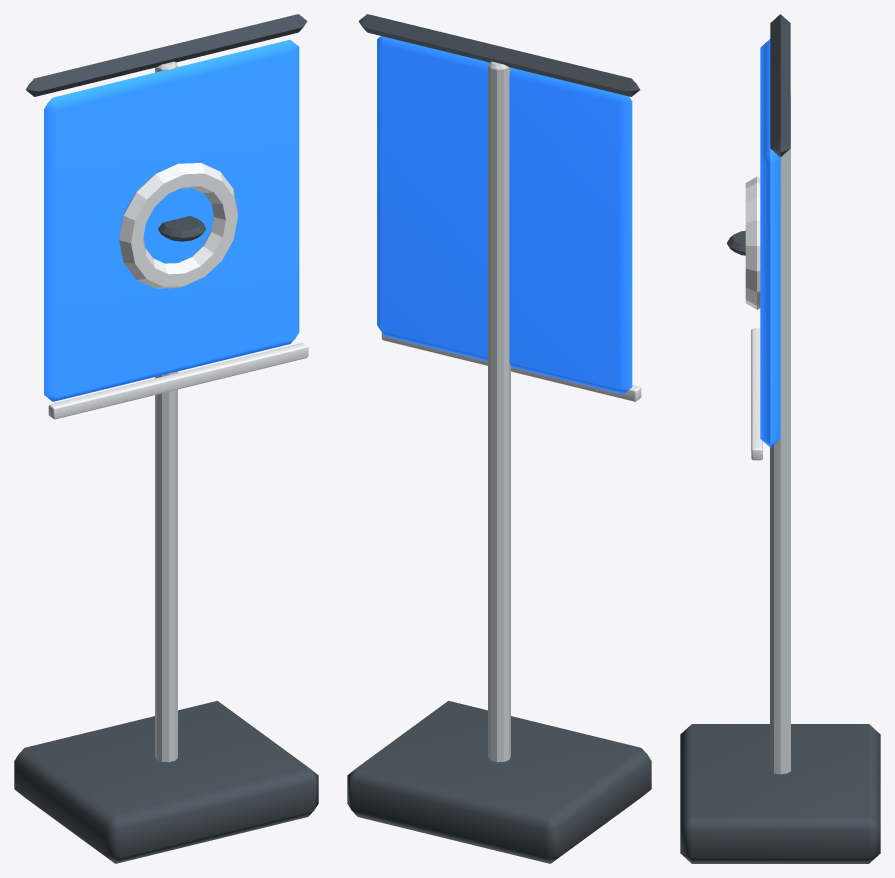
The model's file is Banner_Blue_Eye.fbx.
The picture shows the model from 3 angles, left to right: view 1: azimuth 30°, elevation 25°; view 2: azimuth 150°, elevation 25°; view 3: azimuth 270°, elevation 25°; orthographic projection. The views are drawn at different scales.
Visible parts, largest first — view 1: Banner fabric, Weighted base, Support pole, Eye outline, Crossbar, Banner hem, Eye pupil; view 2: Banner fabric, Weighted base, Support pole, Crossbar, Banner hem; view 3: Weighted base, Support pole, Banner fabric, Crossbar, Eye outline, Banner hem.
Part boxes in pixels (left/top/right/bottom): Banner fabric: left=44, top=39, right=299, bottom=401; Weighted base: left=14, top=701, right=318, bottom=863; Support pole: left=155, top=61, right=177, bottom=762; Eye outline: left=119, top=163, right=237, bottom=288; Crossbar: left=25, top=14, right=307, bottom=96; Banner hem: left=48, top=342, right=308, bottom=419; Eye pupil: left=158, top=216, right=205, bottom=241; Banner fabric: left=377, top=36, right=632, bottom=394; Weighted base: left=347, top=701, right=651, bottom=863; Support pole: left=488, top=61, right=510, bottom=762; Crossbar: left=358, top=14, right=640, bottom=96; Banner hem: left=381, top=332, right=641, bottom=401; Weighted base: left=680, top=724, right=880, bottom=863; Support pole: left=770, top=94, right=790, bottom=774; Banner fabric: left=760, top=39, right=780, bottom=447; Crossbar: left=770, top=14, right=790, bottom=157; Eye outline: left=745, top=176, right=760, bottom=309; Banner hem: left=751, top=328, right=762, bottom=460.
Size of the model in its own units: 95 by 245 by 60.
